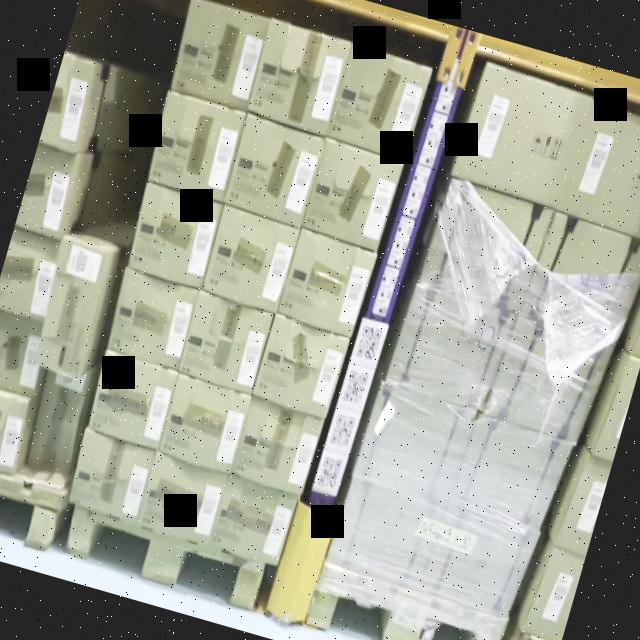box: (452, 62, 588, 206), (488, 304, 616, 443), (418, 182, 547, 312), (385, 286, 511, 416), (525, 209, 640, 341), (353, 392, 479, 511), (455, 416, 578, 532), (329, 486, 448, 593), (243, 15, 352, 130), (324, 41, 432, 157), (422, 515, 542, 618), (273, 220, 379, 334), (121, 176, 228, 286), (301, 137, 403, 249), (557, 102, 640, 239), (168, 2, 268, 114), (33, 235, 110, 375), (143, 92, 244, 195), (224, 119, 322, 224), (102, 264, 202, 366), (202, 206, 300, 310), (178, 290, 274, 393), (84, 352, 178, 454), (253, 316, 345, 420), (156, 376, 252, 468), (66, 438, 157, 530), (209, 477, 298, 571), (140, 459, 226, 550), (235, 400, 322, 486)
